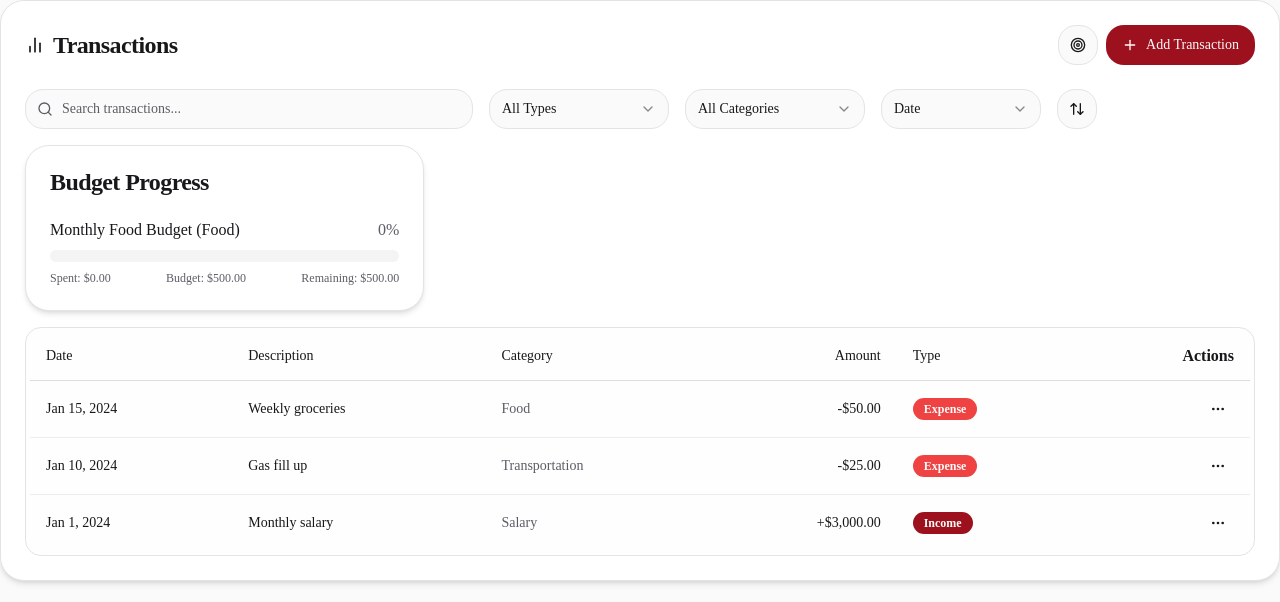
Test: FinanceListView › displays category filter with available categories
Click the dropdown labelled "All Categories".
click(775, 109)  # box [685,89,865,129]
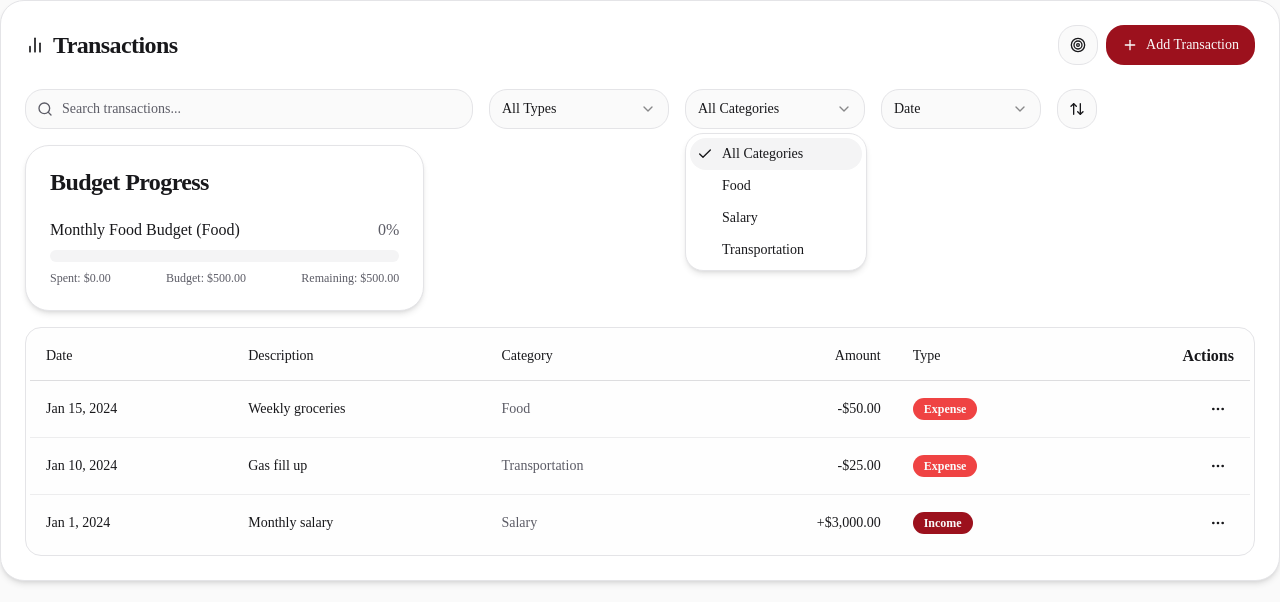
Result: the option "Food" is shown at [722,178,751,193]
Result: the option "Salary" is shown at [722,210,758,225]
Result: the option "Transportation" is shown at [722,242,804,257]
